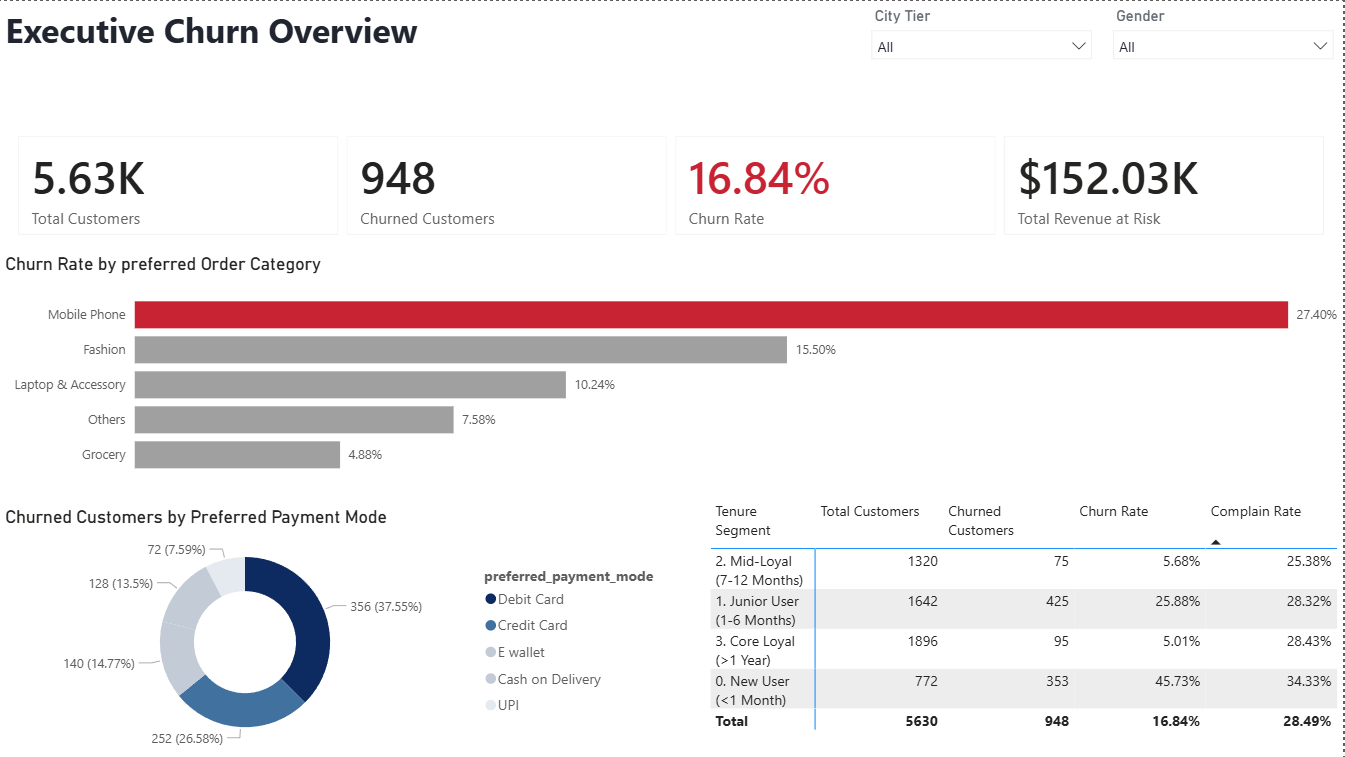

This screenshot's page, from the dashboard's own definition file:
{"tool":"powerbi","page":{"name":"Executive Churn Overview","canvas":[1280,720],"ordinal":0},"visuals":[{"type":"slicer","fields":{"Values":["Dim_Customer_Profile.city_tier"]},"box":[820,0,230,72.9],"z":0},{"type":"slicer","fields":{"Values":["Dim_Customer_Profile.gender"]},"box":[1050,0,230,72.9],"z":1000},{"type":"cardVisual","fields":{"Data":["_Key Metrics.Total Customers","_Key Metrics.Churned Customers","_Key Metrics.Churn Rate","_Key Metrics.Total Revenue at Risk"]},"box":[0,112,1280,128],"z":2000},{"type":"clusteredBarChart","title":"Churn Rate by preferred Order Category","fields":{"Category":["Dim_Customer_Profile.preferred_order_category"],"Y":["_Key Metrics.Churn Rate"]},"box":[0,240,1280,224],"z":3000},{"type":"donutChart","title":"Churned Customers by Preferred Payment Mode","fields":{"Category":["Dim_Customer_Profile.preferred_payment_mode"],"Y":["_Key Metrics.Churned Customers"]},"box":[0,481.7,640,238.3],"z":4000},{"type":"pivotTable","title":"Tenure Segment","fields":{"Rows":["Dim_Customer_Profile.tenure_segment"],"Values":["_Key Metrics.Total Customers","_Key Metrics.Churned Customers","_Key Metrics.Churn Rate","_Key Metrics.Complain Rate"]},"box":[671.7,470,608.3,250],"z":5000},{"type":"textbox","box":[0,0,631.4,64.3],"z":6000}]}

Visuals, with their boxes in screenshot pixels (x1, y1, x2, y2), scaled from the page's 1280x720 canvas onto the 1345x757 screenshot:
slicer - Dim_Customer_Profile.city_tier: [left=862, top=0, right=1103, bottom=77]
slicer - Dim_Customer_Profile.gender: [left=1103, top=0, right=1344, bottom=77]
cardVisual - _Key Metrics.Total Customers x _Key Metrics.Churned Customers: [left=0, top=118, right=1344, bottom=252]
"Churn Rate by preferred Order Category" clusteredBarChart: [left=0, top=252, right=1344, bottom=488]
"Churned Customers by Preferred Payment Mode" donutChart: [left=0, top=506, right=672, bottom=756]
"Tenure Segment" pivotTable: [left=706, top=494, right=1344, bottom=756]
textbox: [left=0, top=0, right=663, bottom=68]
